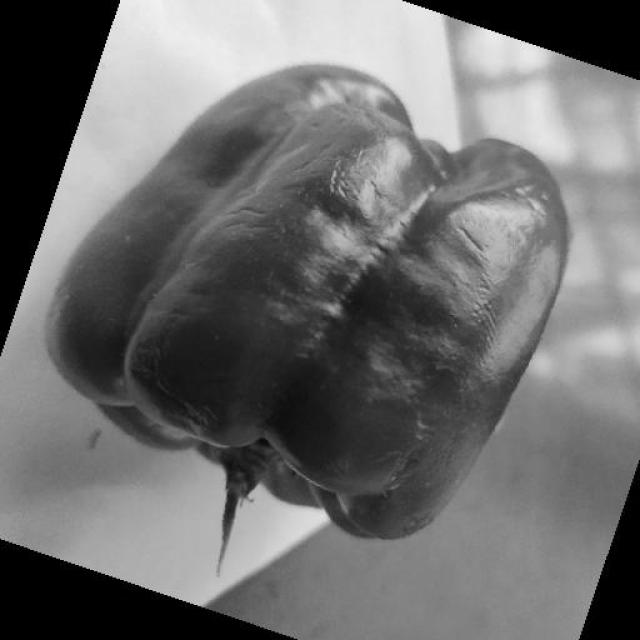Stale_Capsicum: (102, 49, 538, 524)
